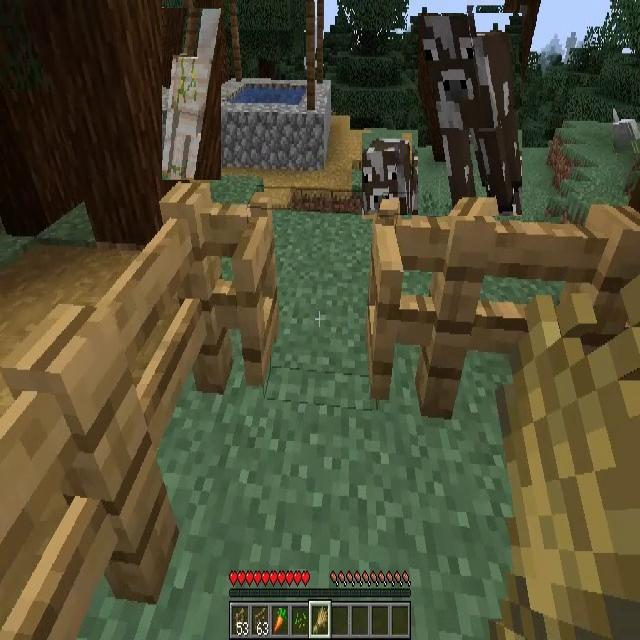cow: (418, 13, 522, 216), (362, 133, 412, 219)
duck: (613, 107, 640, 153)
people: (162, 8, 221, 180)
